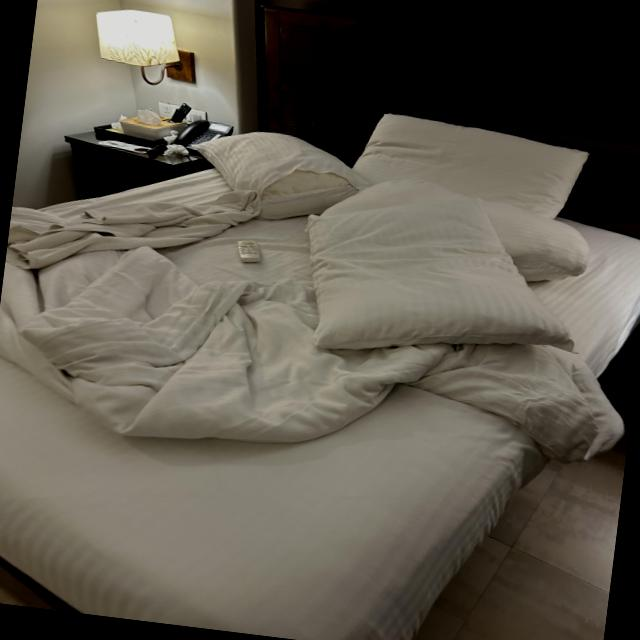mess: (161, 129, 640, 640), (0, 171, 386, 640), (60, 74, 236, 194)
